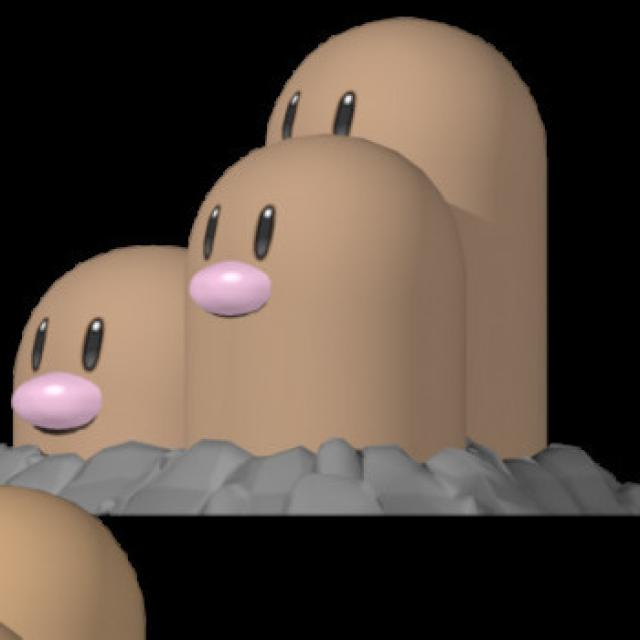Dugtrio: (2, 16, 555, 486)
